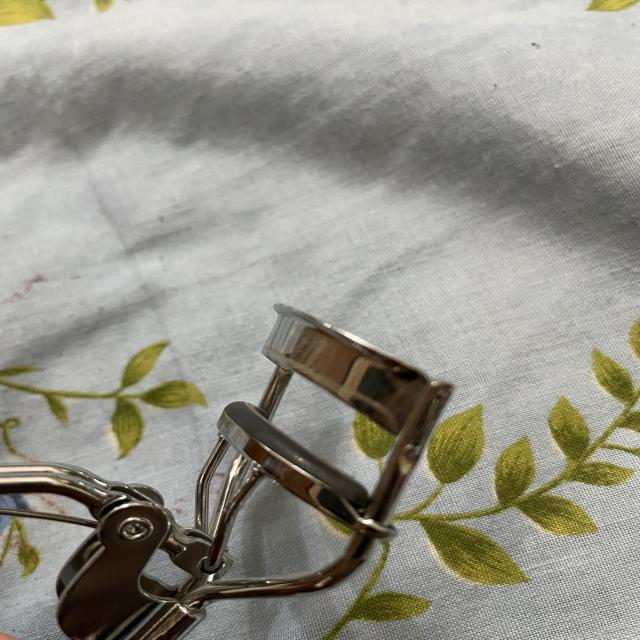eyelash curler: (0, 296, 519, 640)
